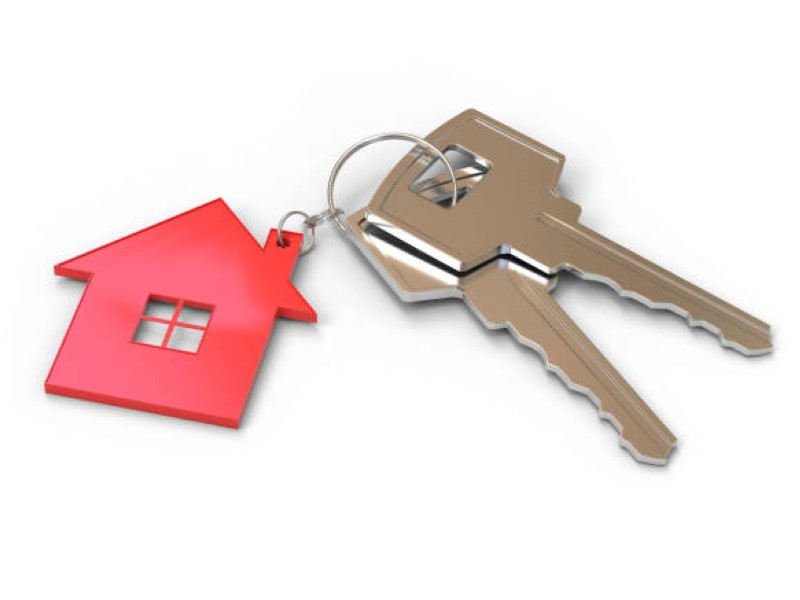key: (337, 105, 781, 470)
